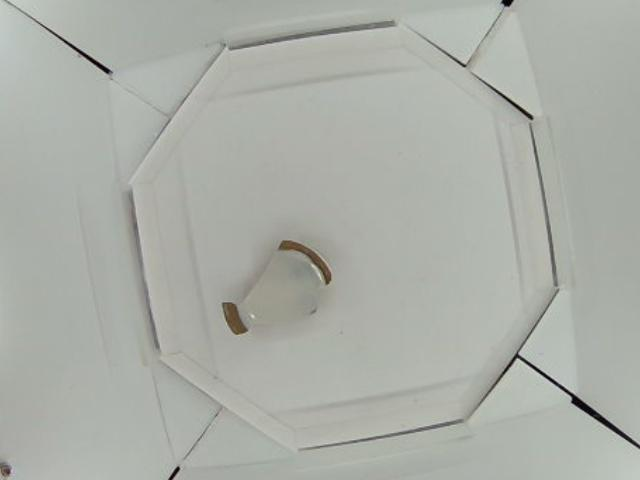China: (219, 239, 329, 337)
